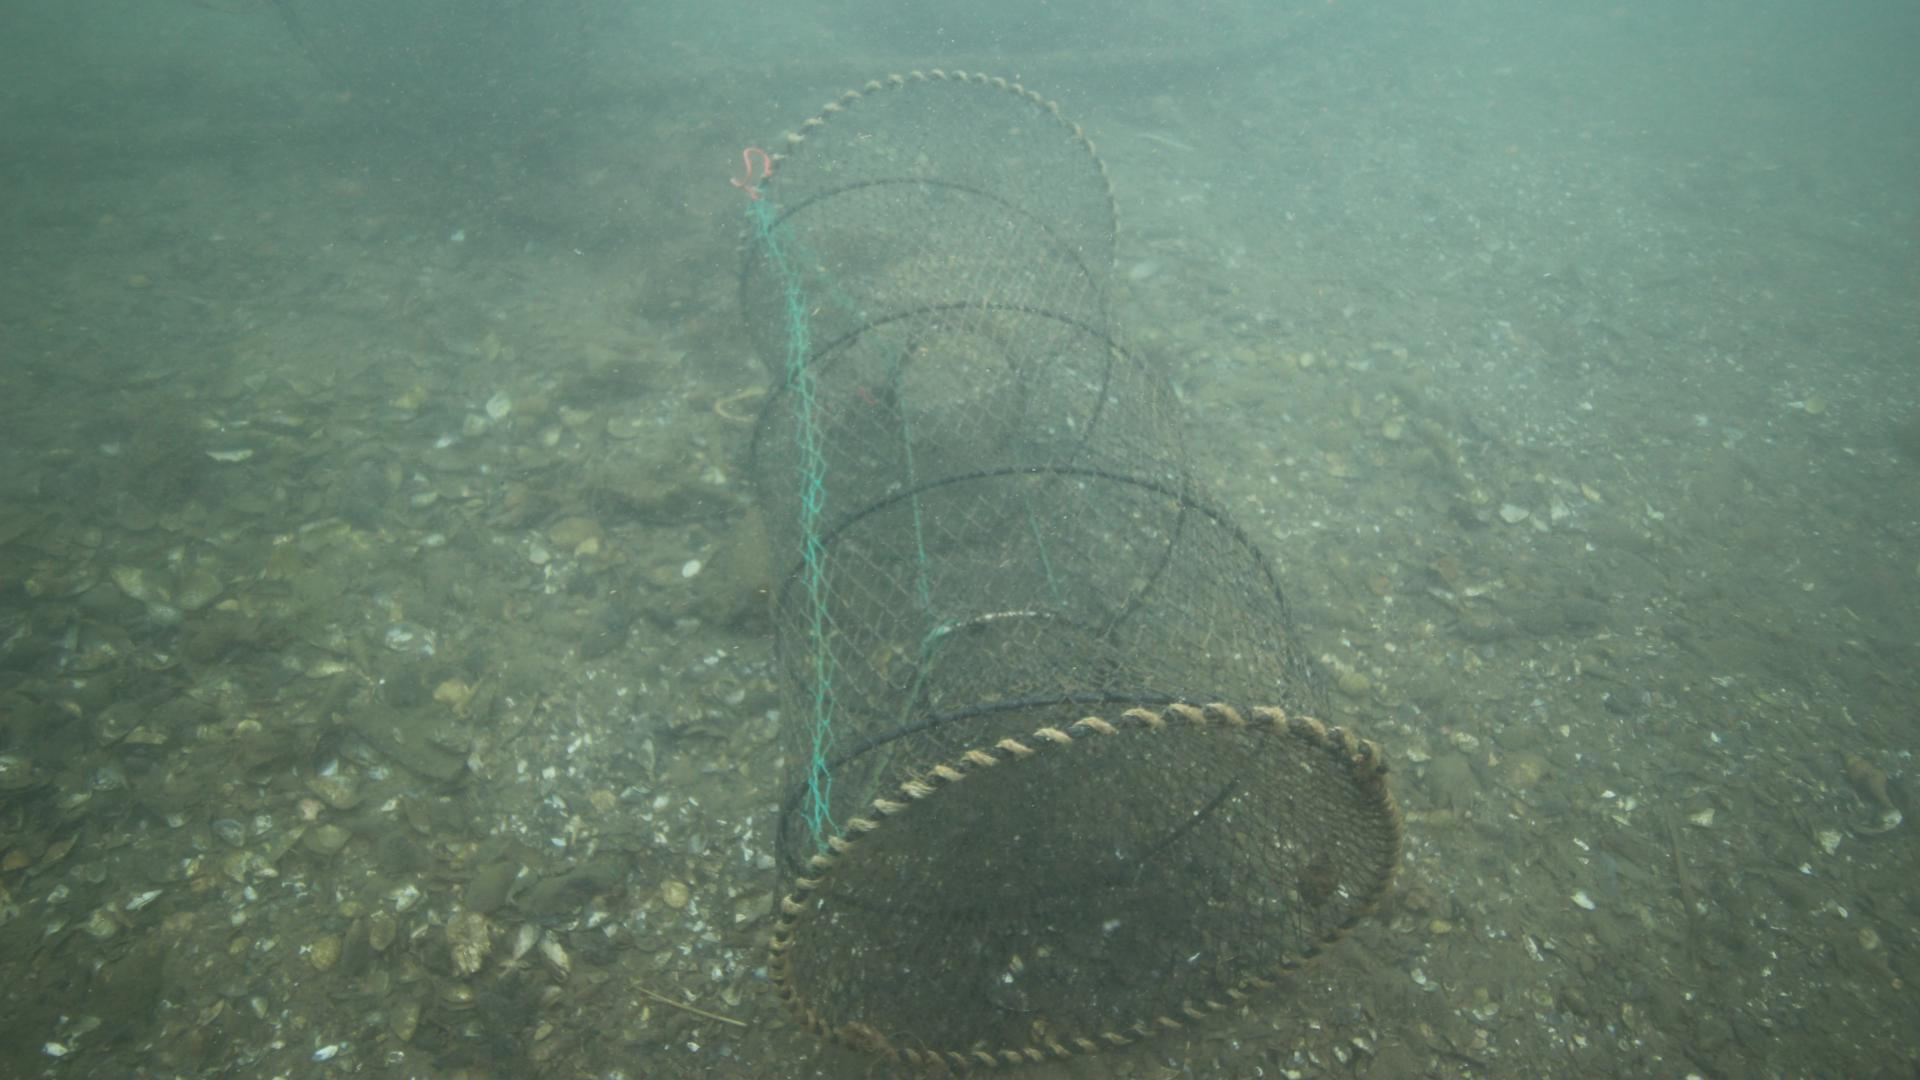spring fish trap: (735, 67, 1400, 1065)
